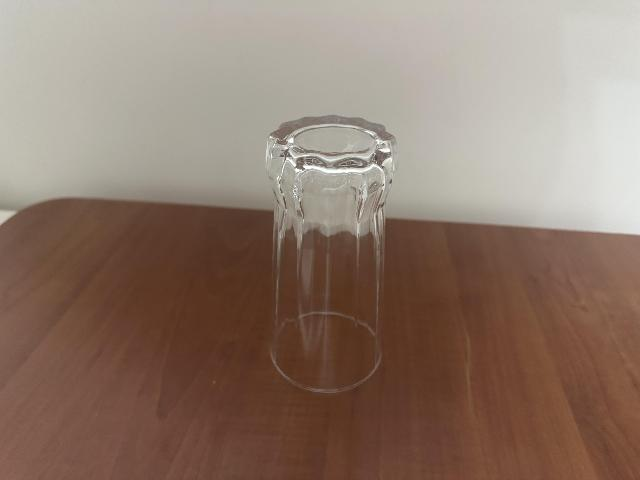Cam: (263, 114, 399, 394)
